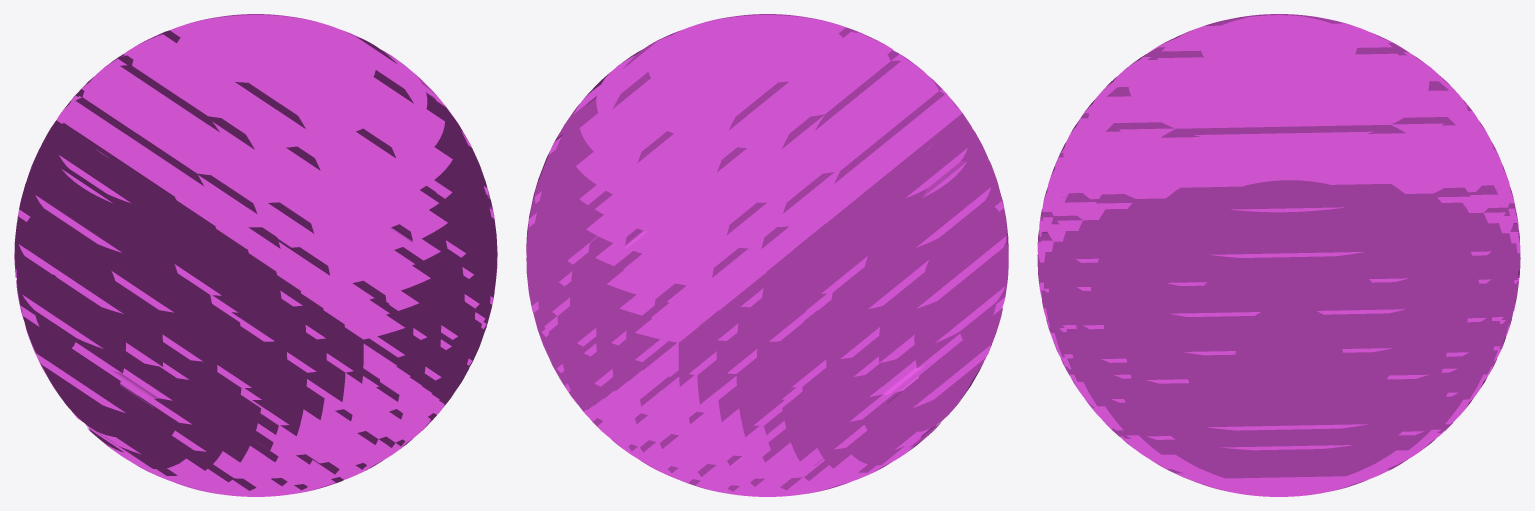
Rendered from maze_ball_tf.gltf.
3 renders of one model, left to right at view 1: azimuth 30°, elevation 25°; view 2: azimuth 150°, elevation 25°; view 3: azimuth 270°, elevation 25°, orthographic.
Visible parts, largest first — view 1: Boole.1; view 2: Boole.1; view 3: Boole.1.
Part boxes in pixels (x1,y1,x2,y2): Boole.1: [14, 14, 497, 496]; Boole.1: [526, 14, 1008, 496]; Boole.1: [1037, 14, 1520, 496].
Size of the model in its own units: 232 by 229 by 232.
